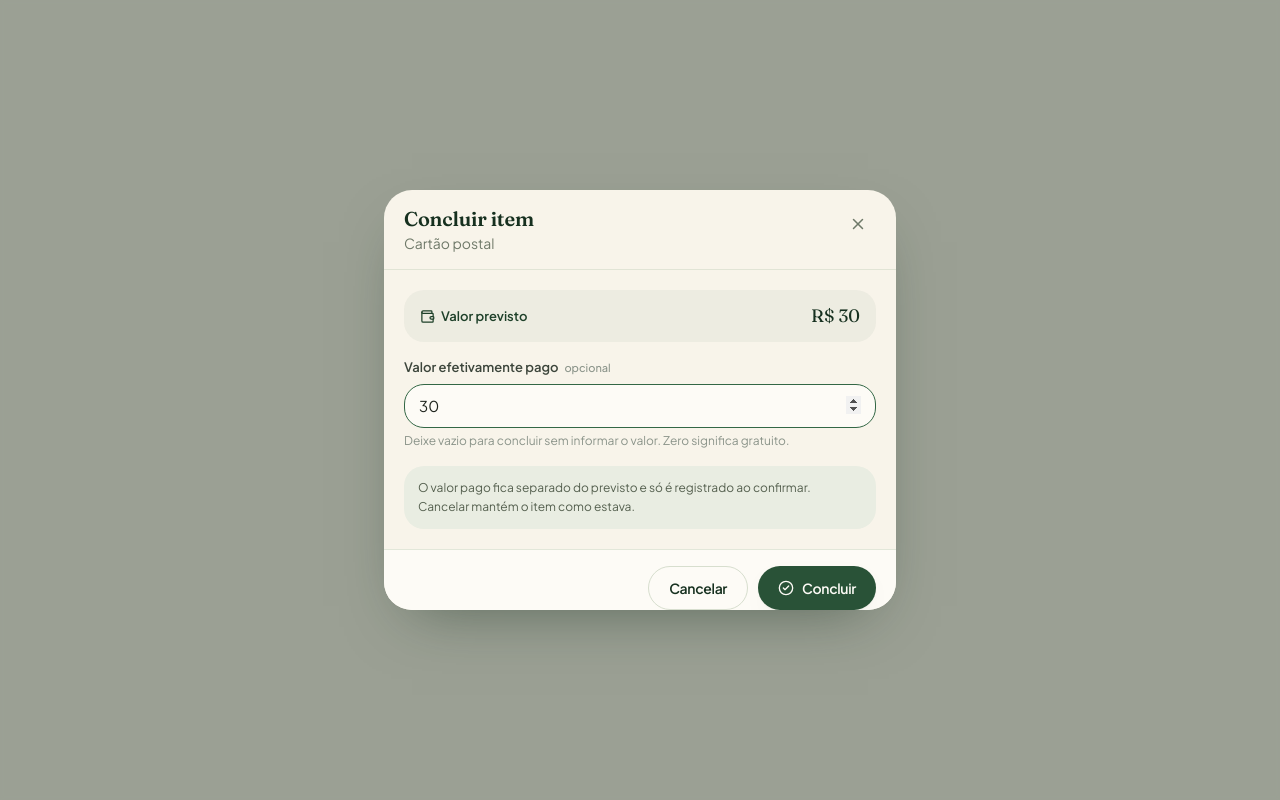
ConclusaoItemSheet › rejeita valor negativo e mantém o modal aberto
This screenshot has width=1280, height=800.
Replace the text in the number field with "-1" at (640, 406), box [404, 384, 876, 428]
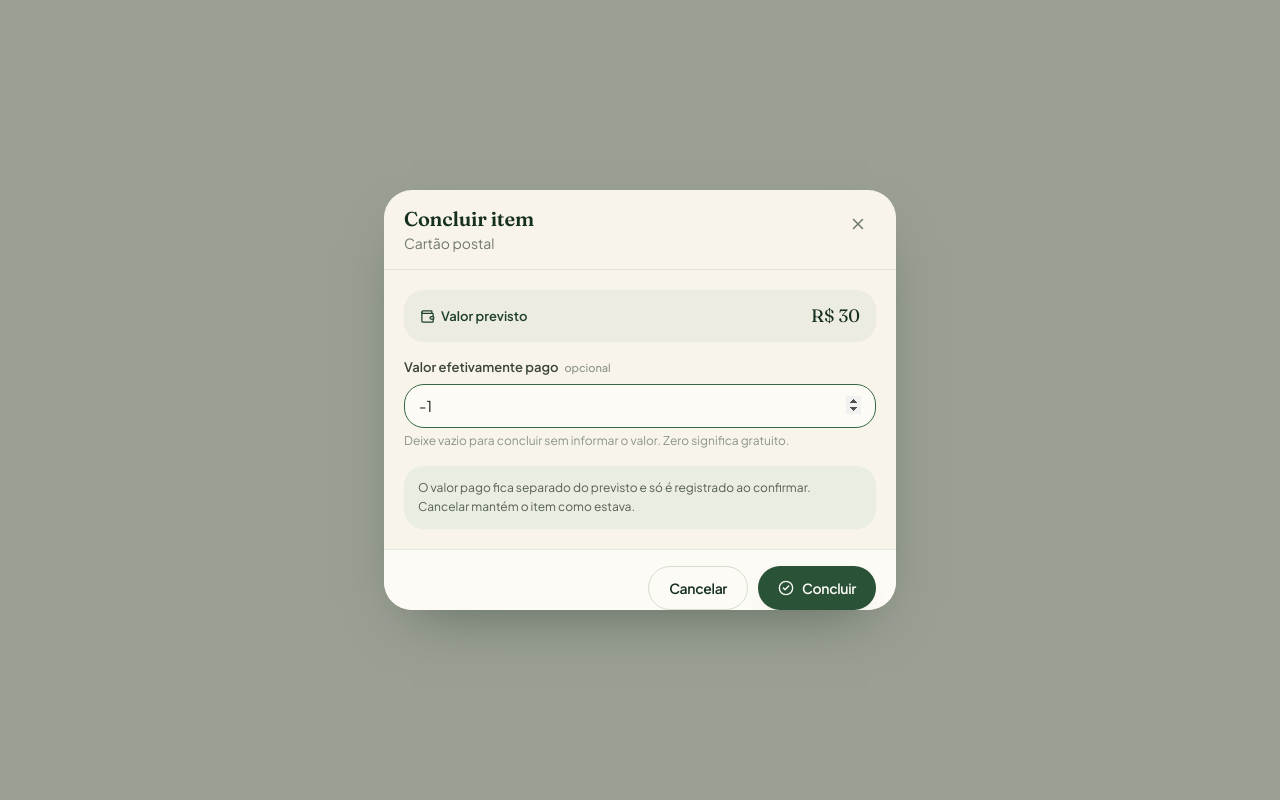
Click the button "Concluir" at (817, 588), box [758, 566, 876, 610]
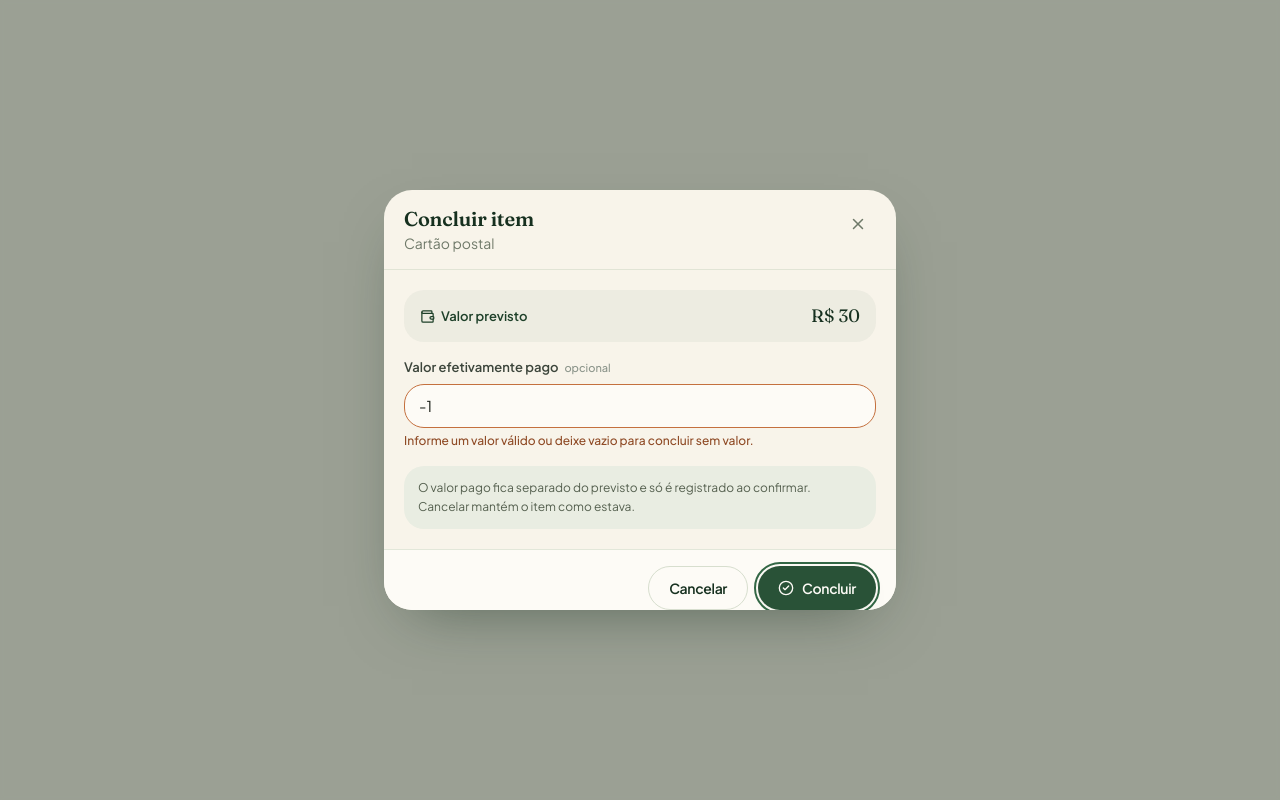
Expected: the text "Informe um valor válido ou deixe vazio para concluir sem valor." is shown, [404, 433, 754, 448]
